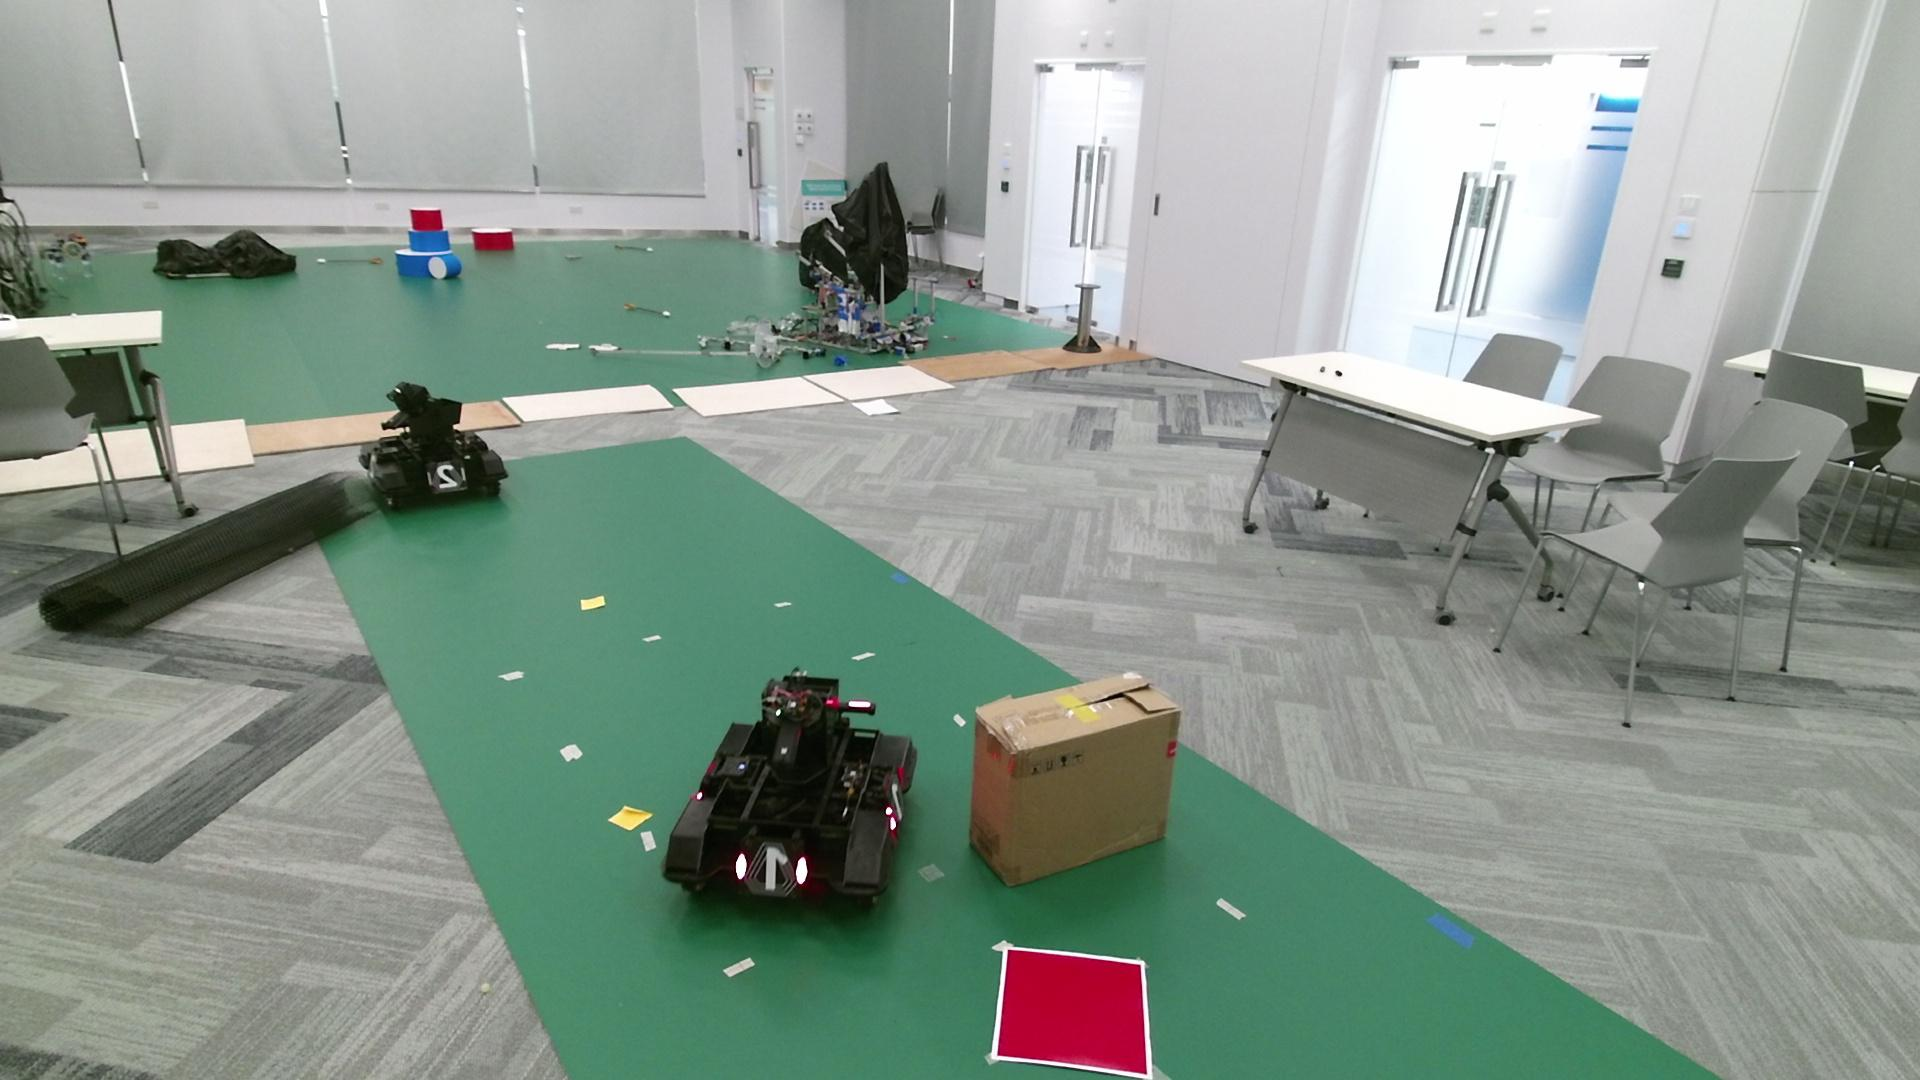robot: (657, 667, 920, 915), (357, 381, 510, 508)
